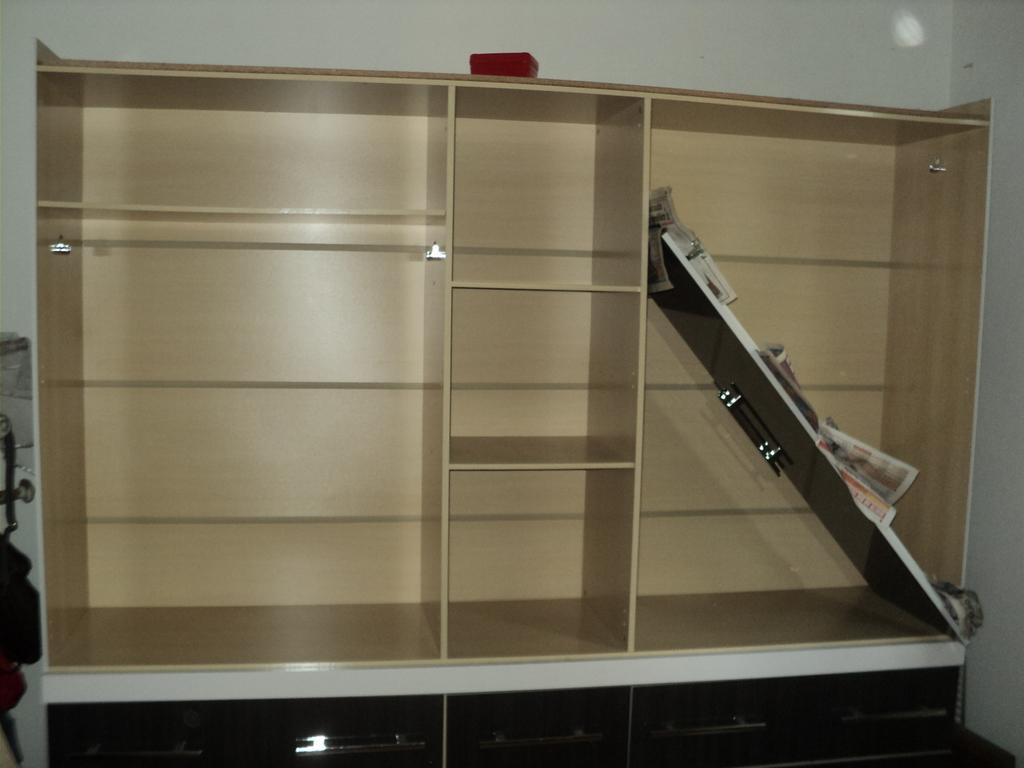cabinet_door: (246, 701, 440, 768), (794, 684, 954, 762), (632, 685, 782, 768), (459, 698, 635, 768), (54, 706, 246, 768)
handle: (486, 722, 604, 760), (295, 735, 427, 765), (66, 743, 210, 768), (834, 702, 950, 728), (660, 719, 765, 737)
